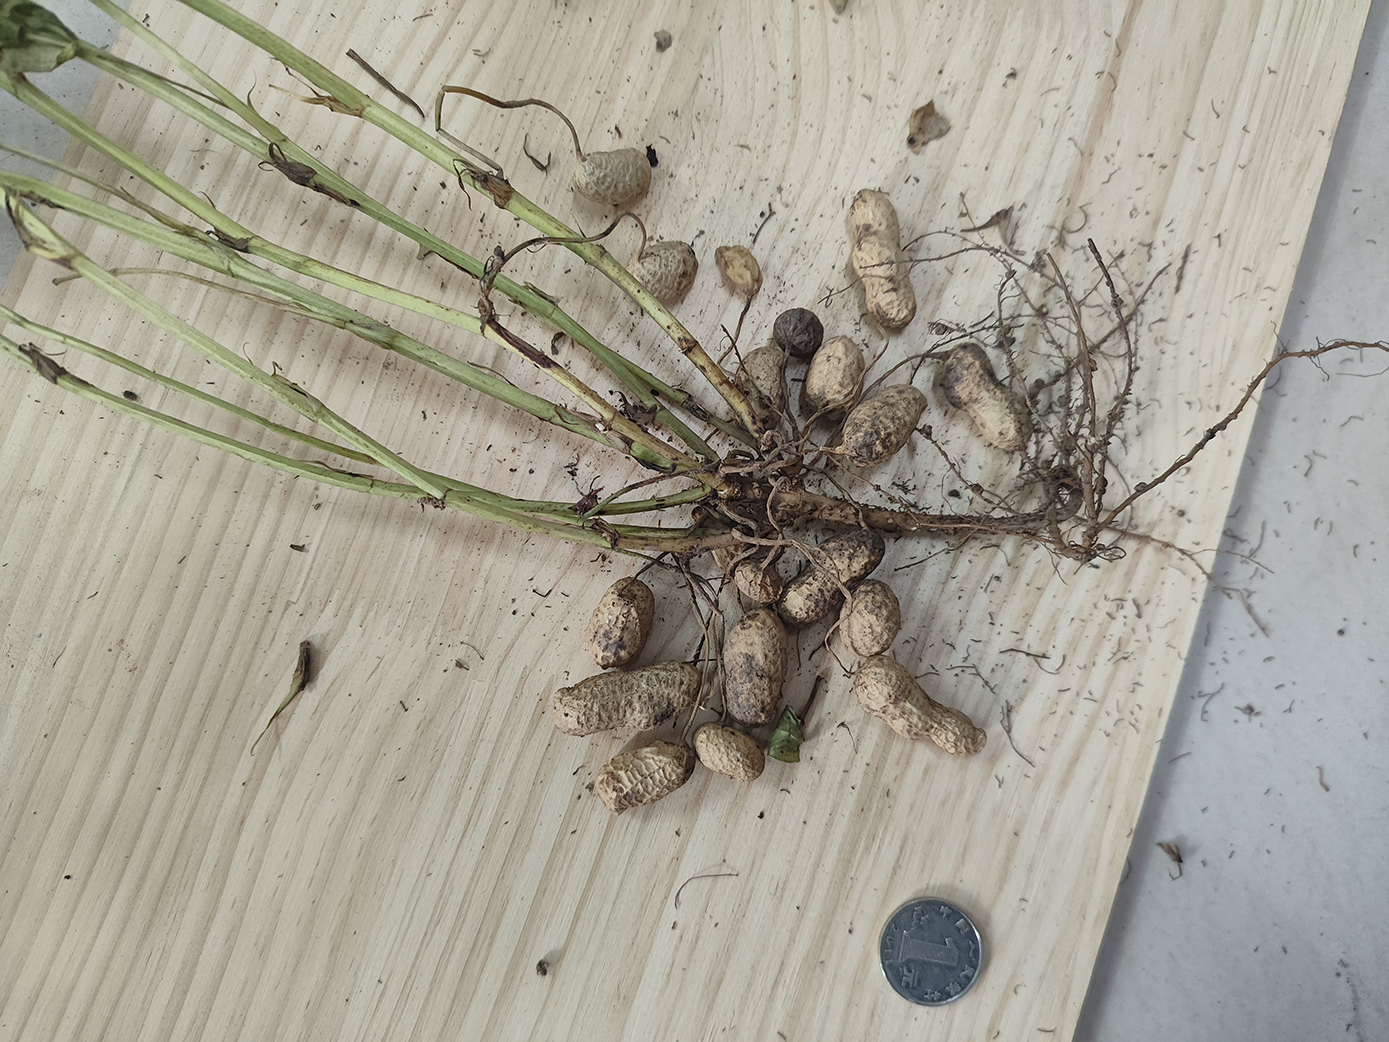h: (854, 655, 987, 756), (552, 659, 702, 736), (778, 529, 886, 627), (850, 188, 917, 328), (594, 739, 697, 817), (724, 607, 789, 728), (841, 383, 929, 468), (587, 575, 655, 671), (805, 334, 866, 417), (838, 579, 901, 659), (691, 722, 765, 783), (572, 148, 652, 204), (626, 240, 698, 301), (734, 346, 785, 426), (715, 245, 763, 296), (734, 559, 780, 603)
l: (941, 341, 1033, 451), (773, 306, 824, 358)
